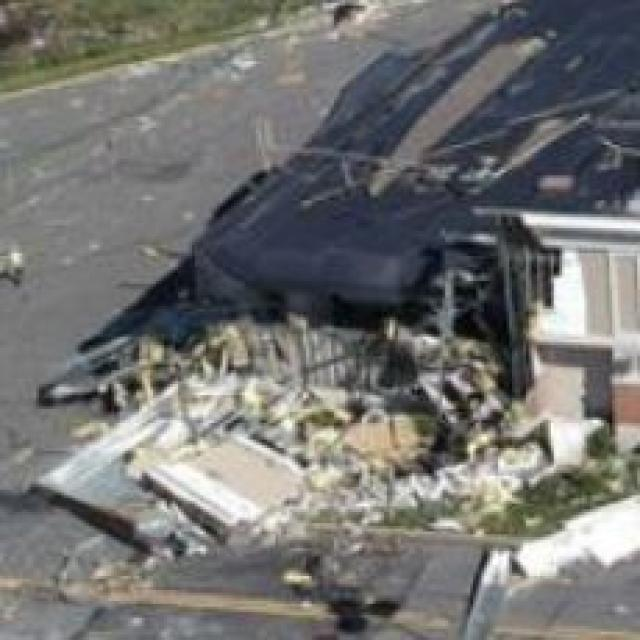collapsed_building: (81, 217, 634, 526)
